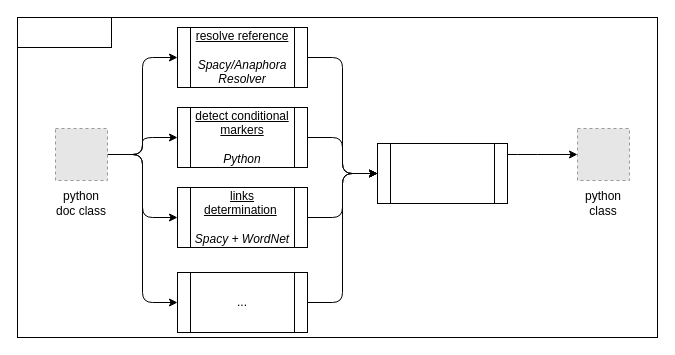
Some shapes in this 675 by 355 pixel diagram are drawn without their labels. Grey dashed boxes stand in for pictures. The box of each missing label's shape, as (x1, y1, x2, y2) in pixels:
flow generation Python: (376, 142, 508, 204)
processing: (16, 16, 112, 48)
